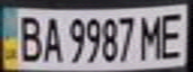7: (115, 12, 139, 63)
8: (100, 14, 121, 63)
9: (81, 13, 103, 64), (63, 14, 84, 63)
A: (39, 12, 63, 63)
B: (12, 11, 45, 63)
E: (157, 8, 190, 61)
M: (136, 10, 166, 61)
